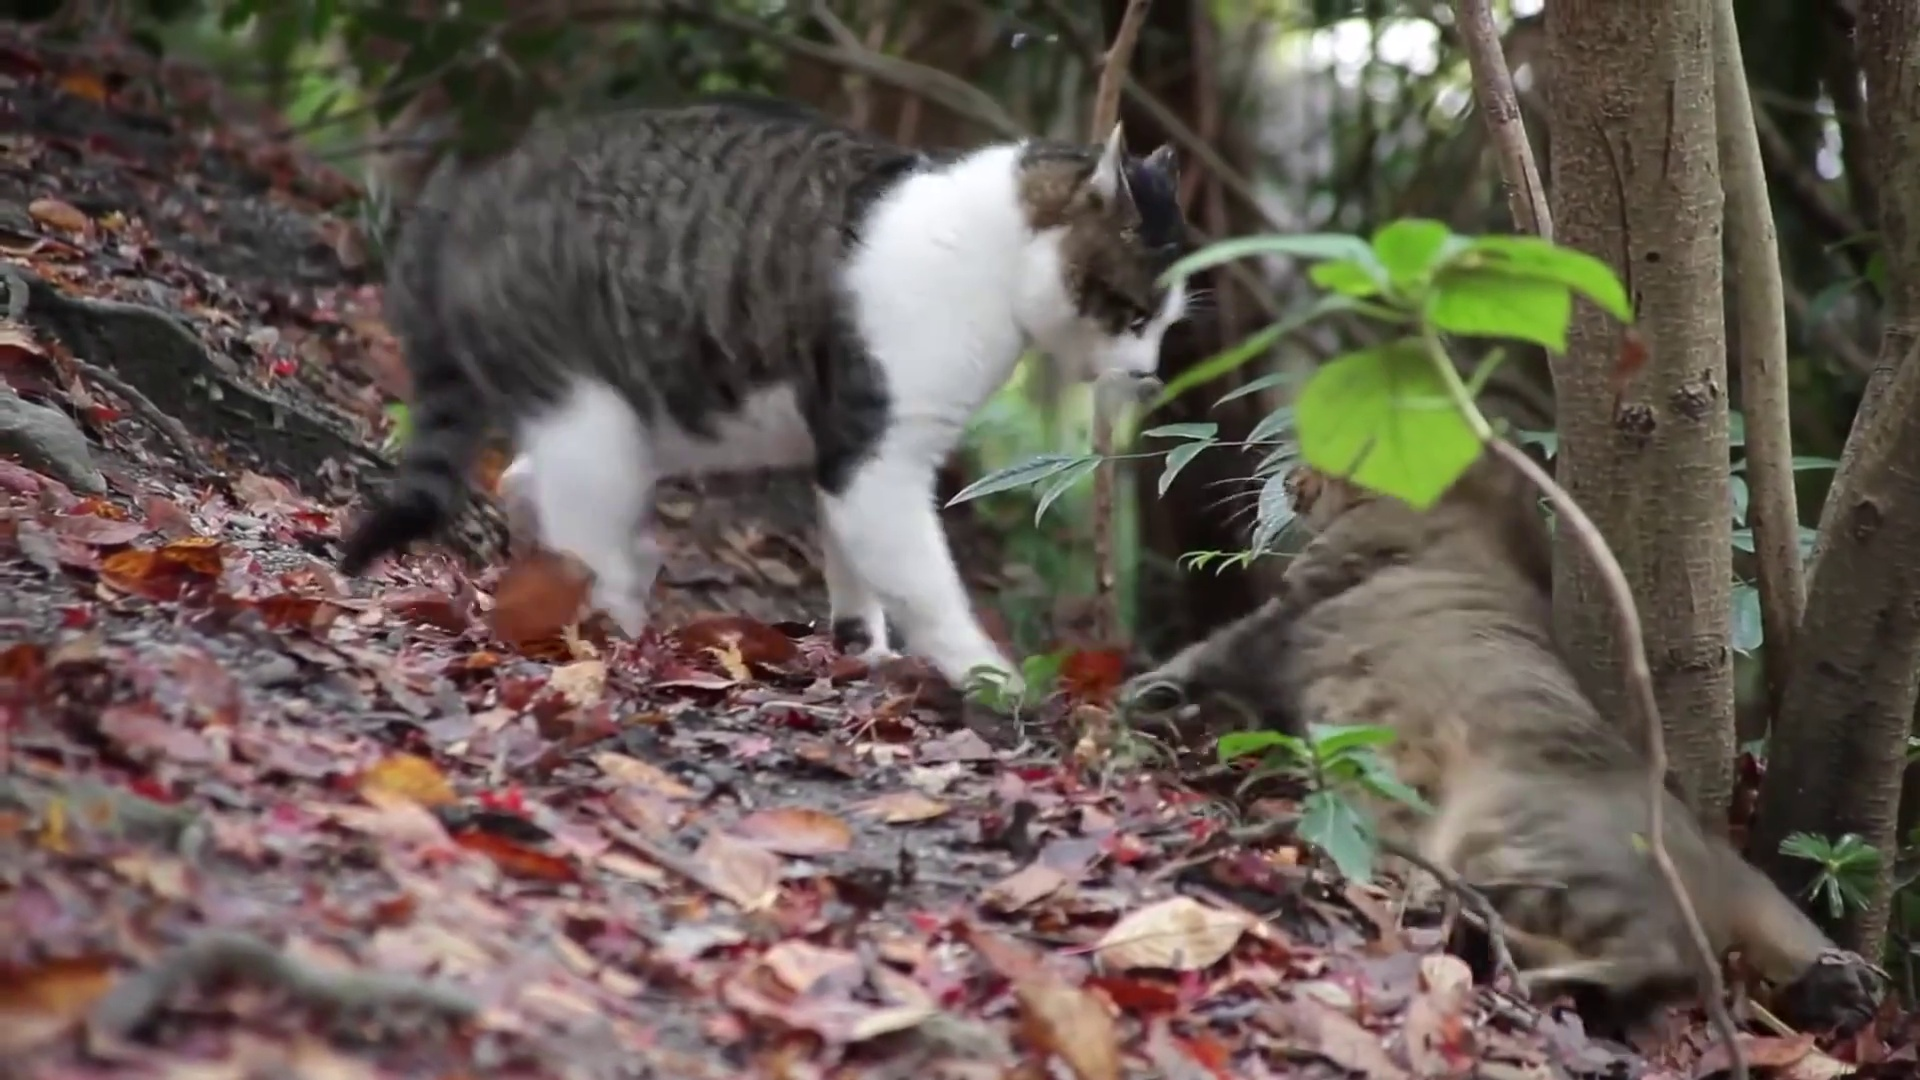black-white: (336, 105, 1188, 695)
pure black: (1280, 458, 1673, 971)
